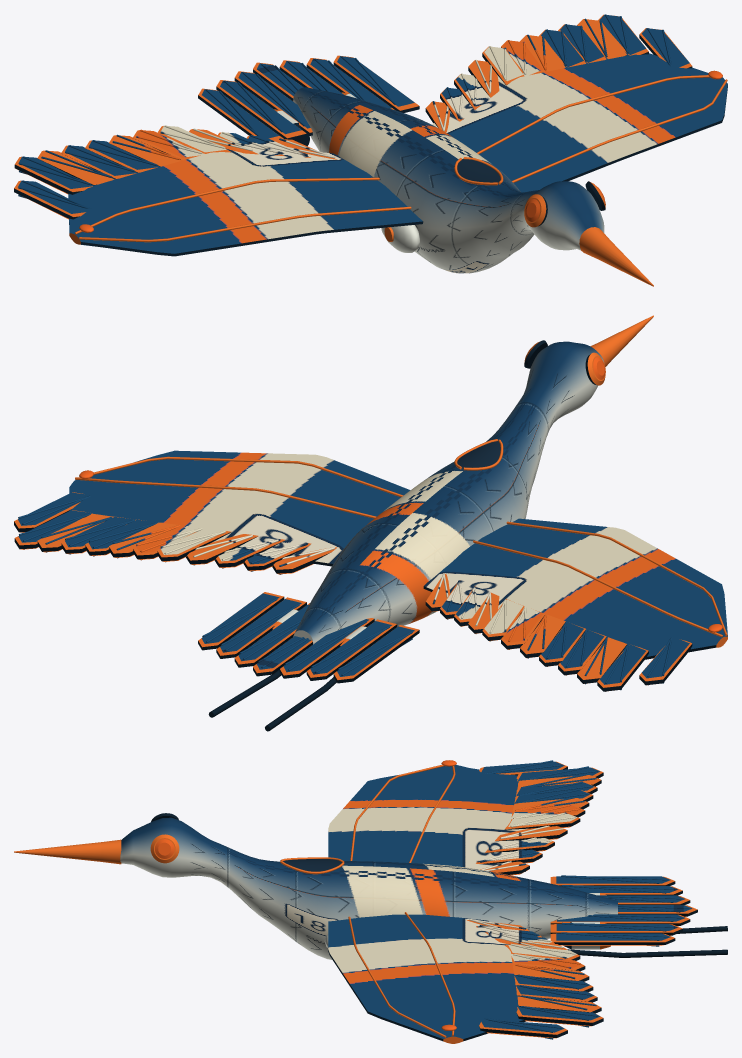
The picture shows the model from 3 angles, top to bottom: view 1: azimuth 30°, elevation 25°; view 2: azimuth 150°, elevation 25°; view 3: azimuth 270°, elevation 25°; orthographic projection. The views are drawn at different scales.
Visible parts, largest first — view 1: egret_hull; view 2: egret_hull; view 3: egret_hull.
Part boxes in pixels (x1,y1,x2,y2): egret_hull: (14, 14, 727, 286); egret_hull: (14, 315, 727, 731); egret_hull: (14, 760, 727, 1043).
Size of the model in its own units: 36.2 by 8.4 by 40.
1 material, 1 textured.
